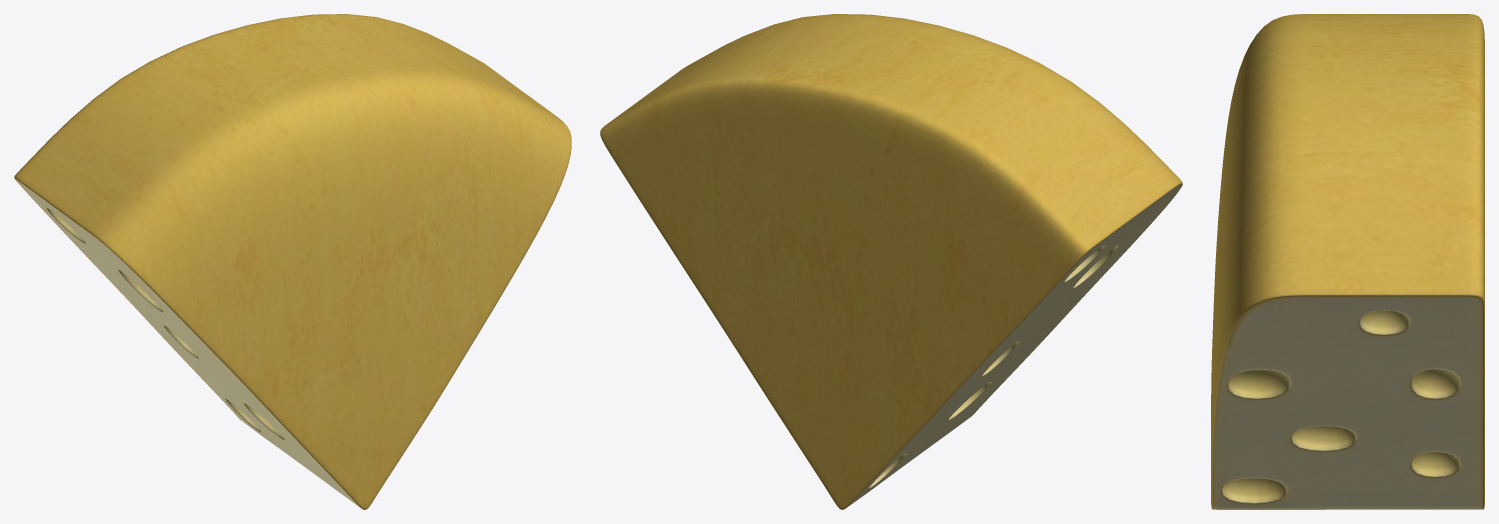
File: Cheese2.obj
3 views of the same model, side by side, from view 1: azimuth 30°, elevation 25°; view 2: azimuth 150°, elevation 25°; view 3: azimuth 270°, elevation 25° (orthographic). The views are drawn at different scales.
Parts seen in each view (by area): view 1: Cheese2; view 2: Cheese2; view 3: Cheese2.
Boxes of the visible parts, x1,y1,x2,y2 form: Cheese2: (14, 14, 571, 509); Cheese2: (600, 14, 1182, 509); Cheese2: (1211, 14, 1484, 509).
Size of the model in its own units: 0.139 by 0.1135 by 0.0624.
1 material, 1 textured.
